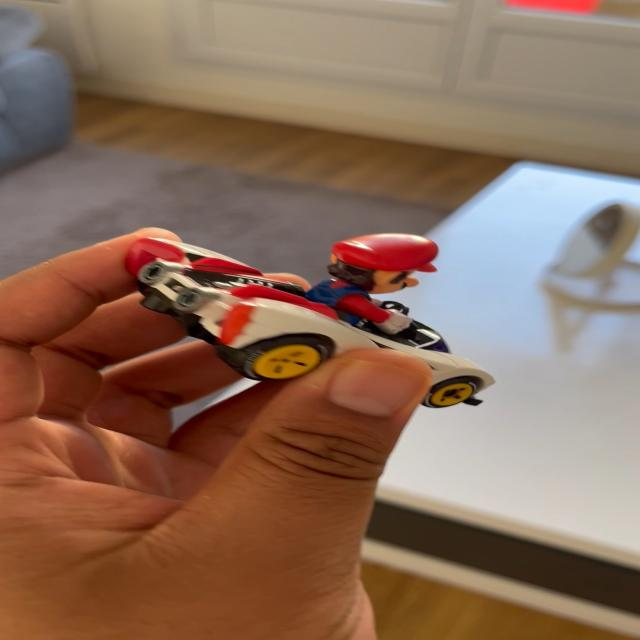mario: (118, 224, 527, 423)
